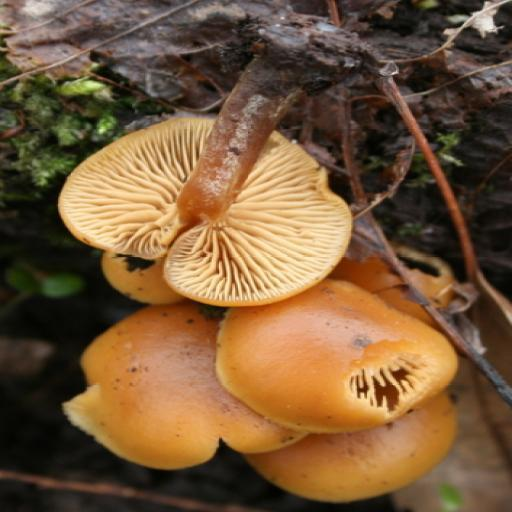mushroom: (50, 104, 471, 505)
